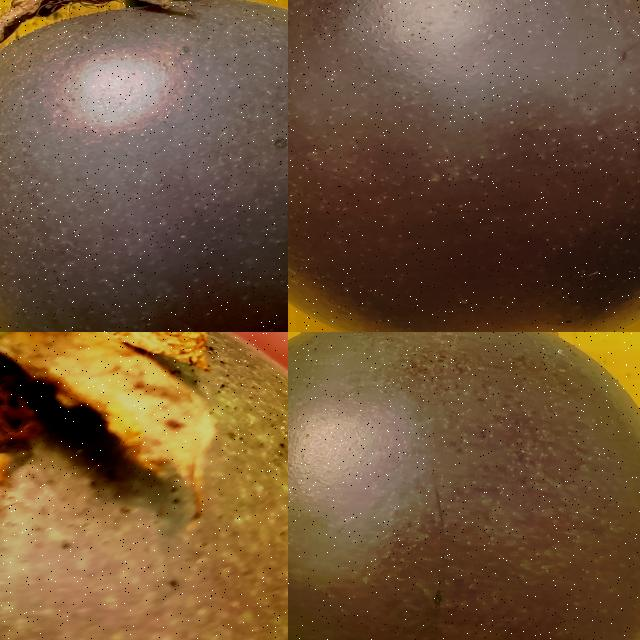Estado-4: (288, 332, 640, 640)
Estado-5: (0, 0, 288, 332)
